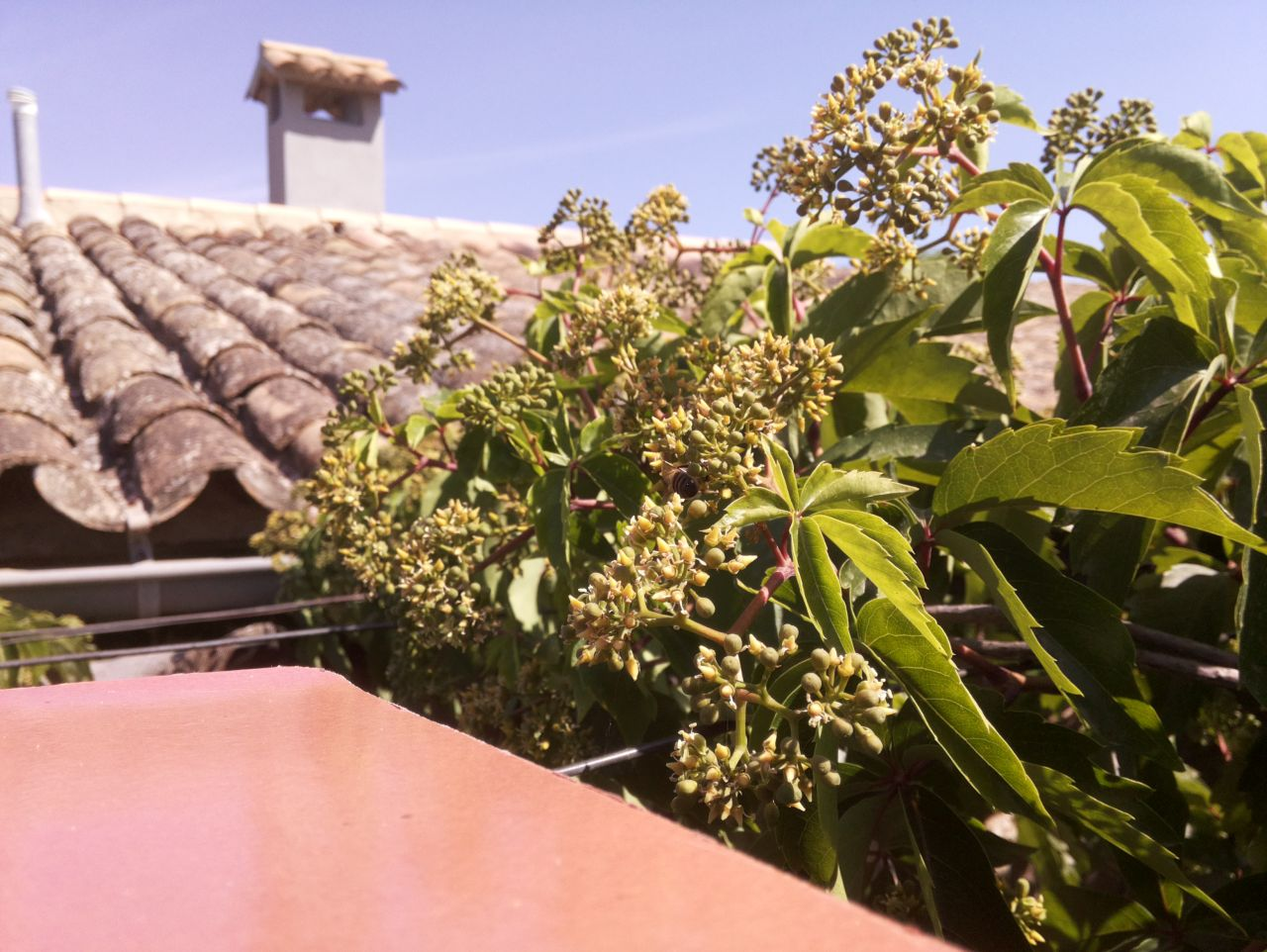Apis mellifera: (643, 452, 709, 504)
